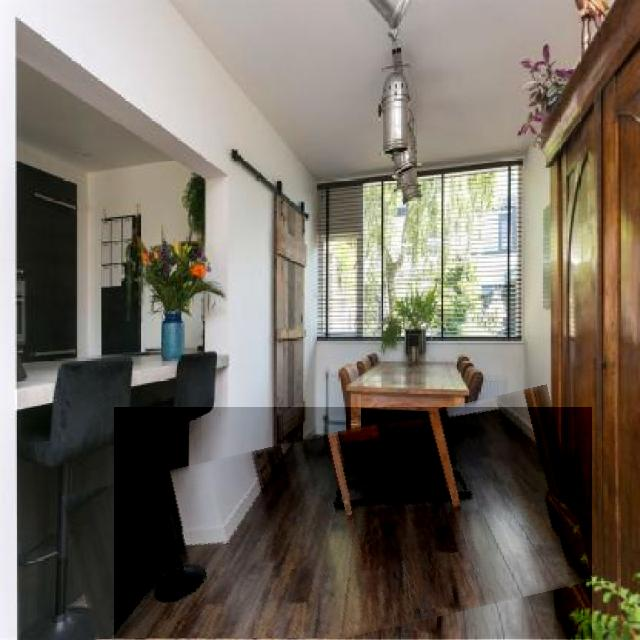floor: (115, 407, 592, 639)
